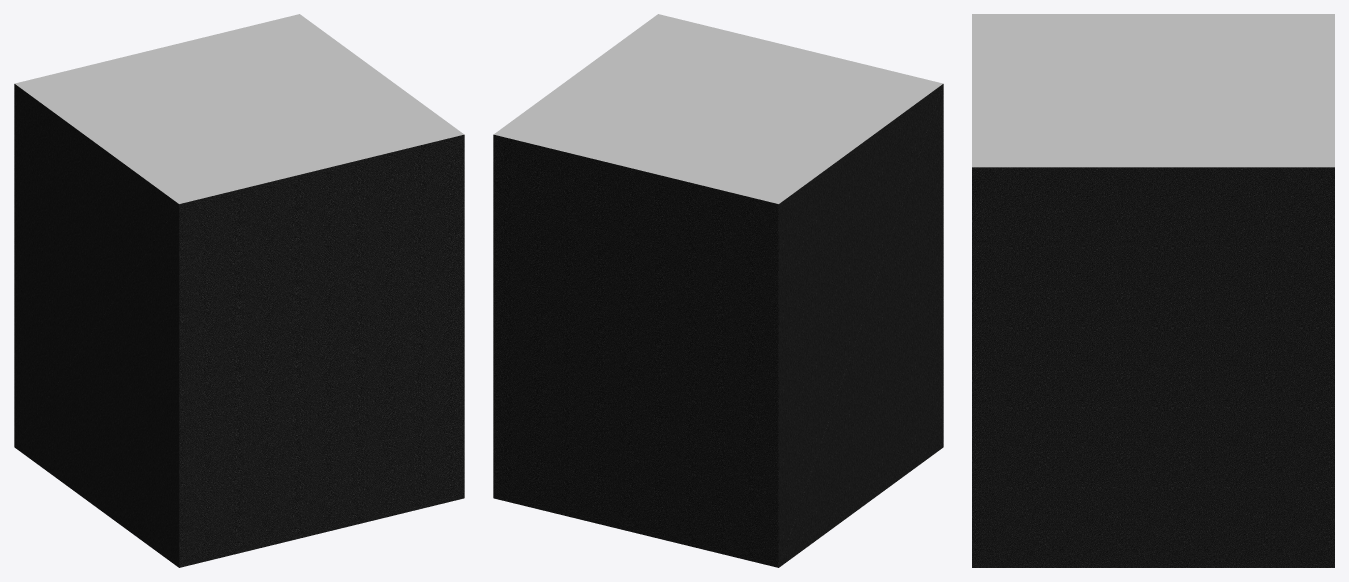
File: Heliport_bill.FBX
3 views of the same model, side by side, from view 1: azimuth 30°, elevation 25°; view 2: azimuth 150°, elevation 25°; view 3: azimuth 270°, elevation 25° (orthographic). The views are drawn at different scales.
Visible parts, largest first — view 1: Heliport_bill; view 2: Heliport_bill; view 3: Heliport_bill.
Boxes of the visible parts, x1,y1,x2,y2 form: Heliport_bill: (14, 14, 464, 567); Heliport_bill: (493, 14, 943, 567); Heliport_bill: (972, 14, 1334, 567).
Bounding box in the file's own units: 2000 × 2000 × 2437.
